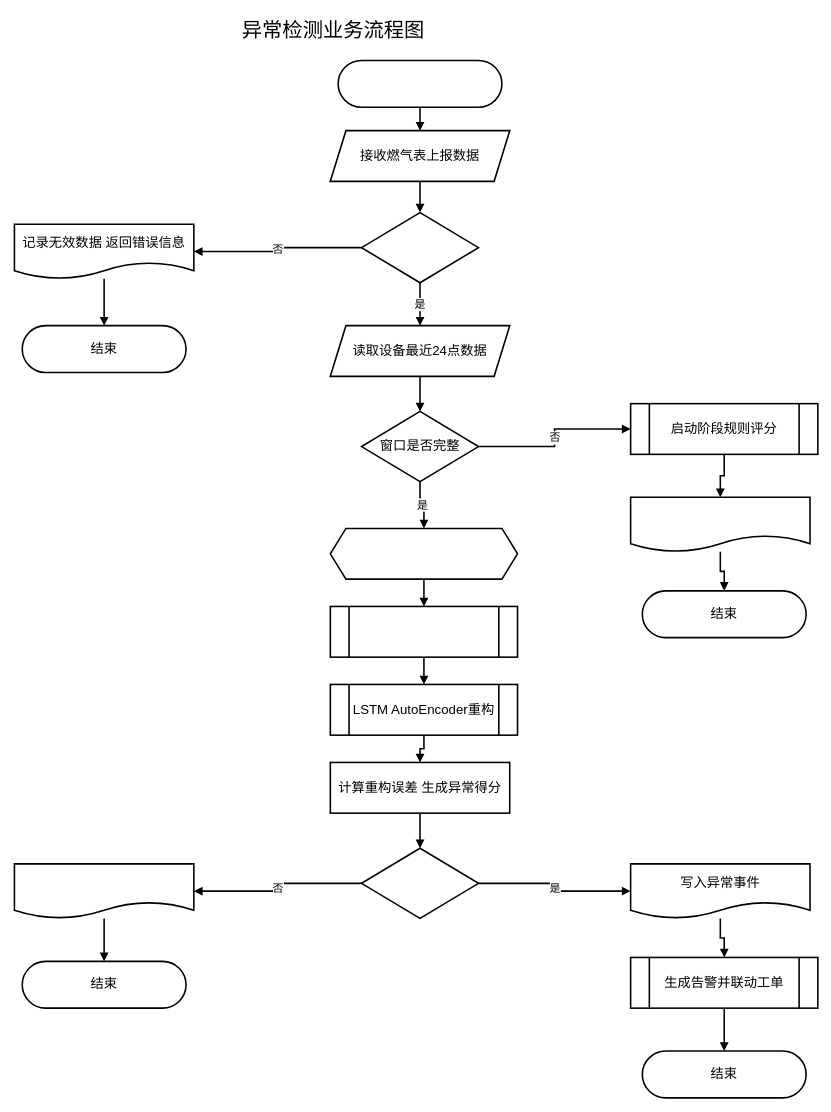
Image size: 831x1112. Some labels were removed from this diagram. Each missing label, with the centre of its shape:
开始: [419,83]
异常得分 是否超过阈值: [419,883]
数据是否合法: [419,247]
构造模型输入窗口 24 × 7: [423,631]
特征清洗与标准化: [423,553]
记录正常检测结果: [103,891]
输出启动阶段检测结果: [719,524]
